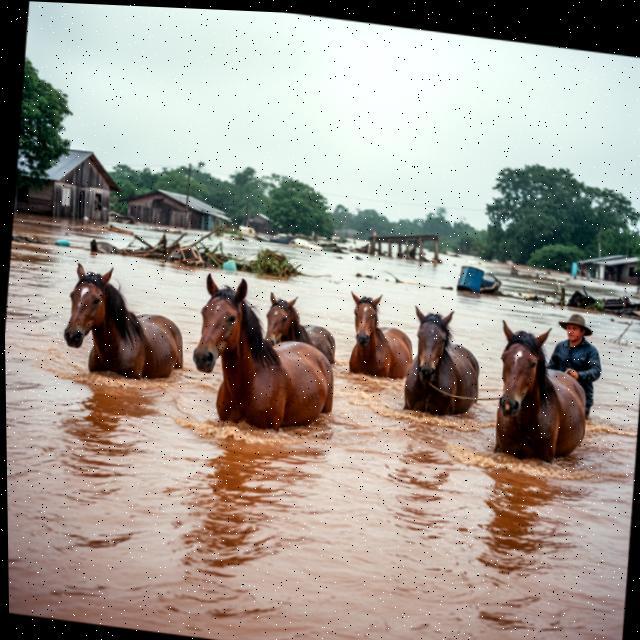civilian: (547, 306, 606, 397)
horse: (168, 263, 347, 442), (46, 258, 195, 394), (481, 319, 595, 470), (385, 302, 499, 429), (249, 283, 342, 369), (340, 286, 415, 391)
